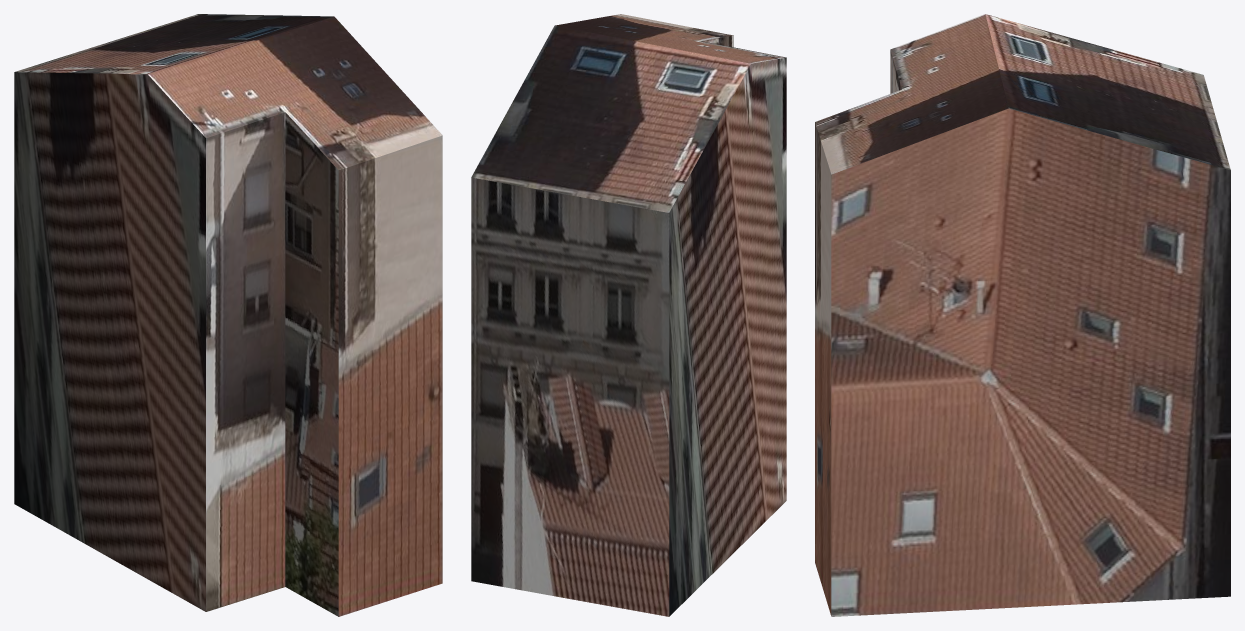
3 views of the same model, side by side, from view 1: azimuth 30°, elevation 25°; view 2: azimuth 150°, elevation 25°; view 3: azimuth 270°, elevation 25° (orthographic). The views are drawn at different scales.
Parts seen in each view (by area): view 1: Z_UP; view 2: Z_UP; view 3: Z_UP.
Boxes of the visible parts, box(x1,y1,x2,y2) form: Z_UP: box(14, 14, 442, 616); Z_UP: box(471, 14, 786, 616); Z_UP: box(815, 14, 1230, 616).
Bounding box in the file's own units: 9.21 × 18.56 × 14.01.
2 materials, 1 textured.
